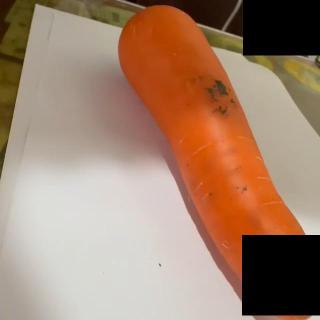carrot: (118, 3, 320, 320)
